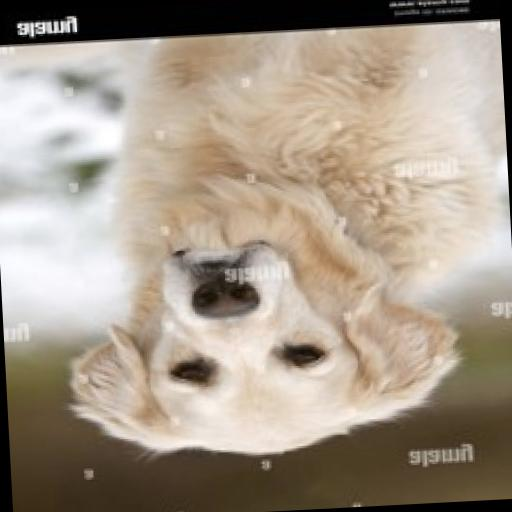dog: (45, 16, 512, 471)
